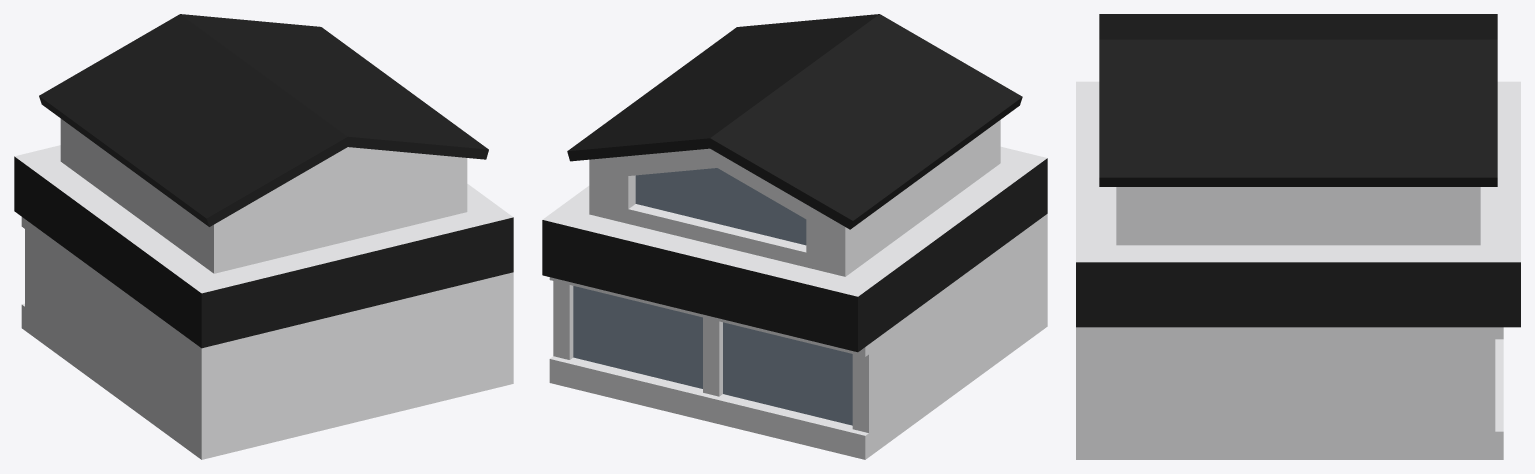
The model's file is Pist3.fbx.
3 renders of one model, left to right at view 1: azimuth 30°, elevation 25°; view 2: azimuth 150°, elevation 25°; view 3: azimuth 270°, elevation 25°, orthographic. The views are drawn at different scales.
Visible parts, largest first — view 1: pitsOfficeRoof; view 2: pitsOfficeRoof; view 3: pitsOfficeRoof.
Part boxes in pixels (<box>): pitsOfficeRoof: <box>14,14,513,459</box>; pitsOfficeRoof: <box>542,14,1047,459</box>; pitsOfficeRoof: <box>1076,14,1520,459</box>.
Size of the model in its own units: 1000 by 852 by 1040.
